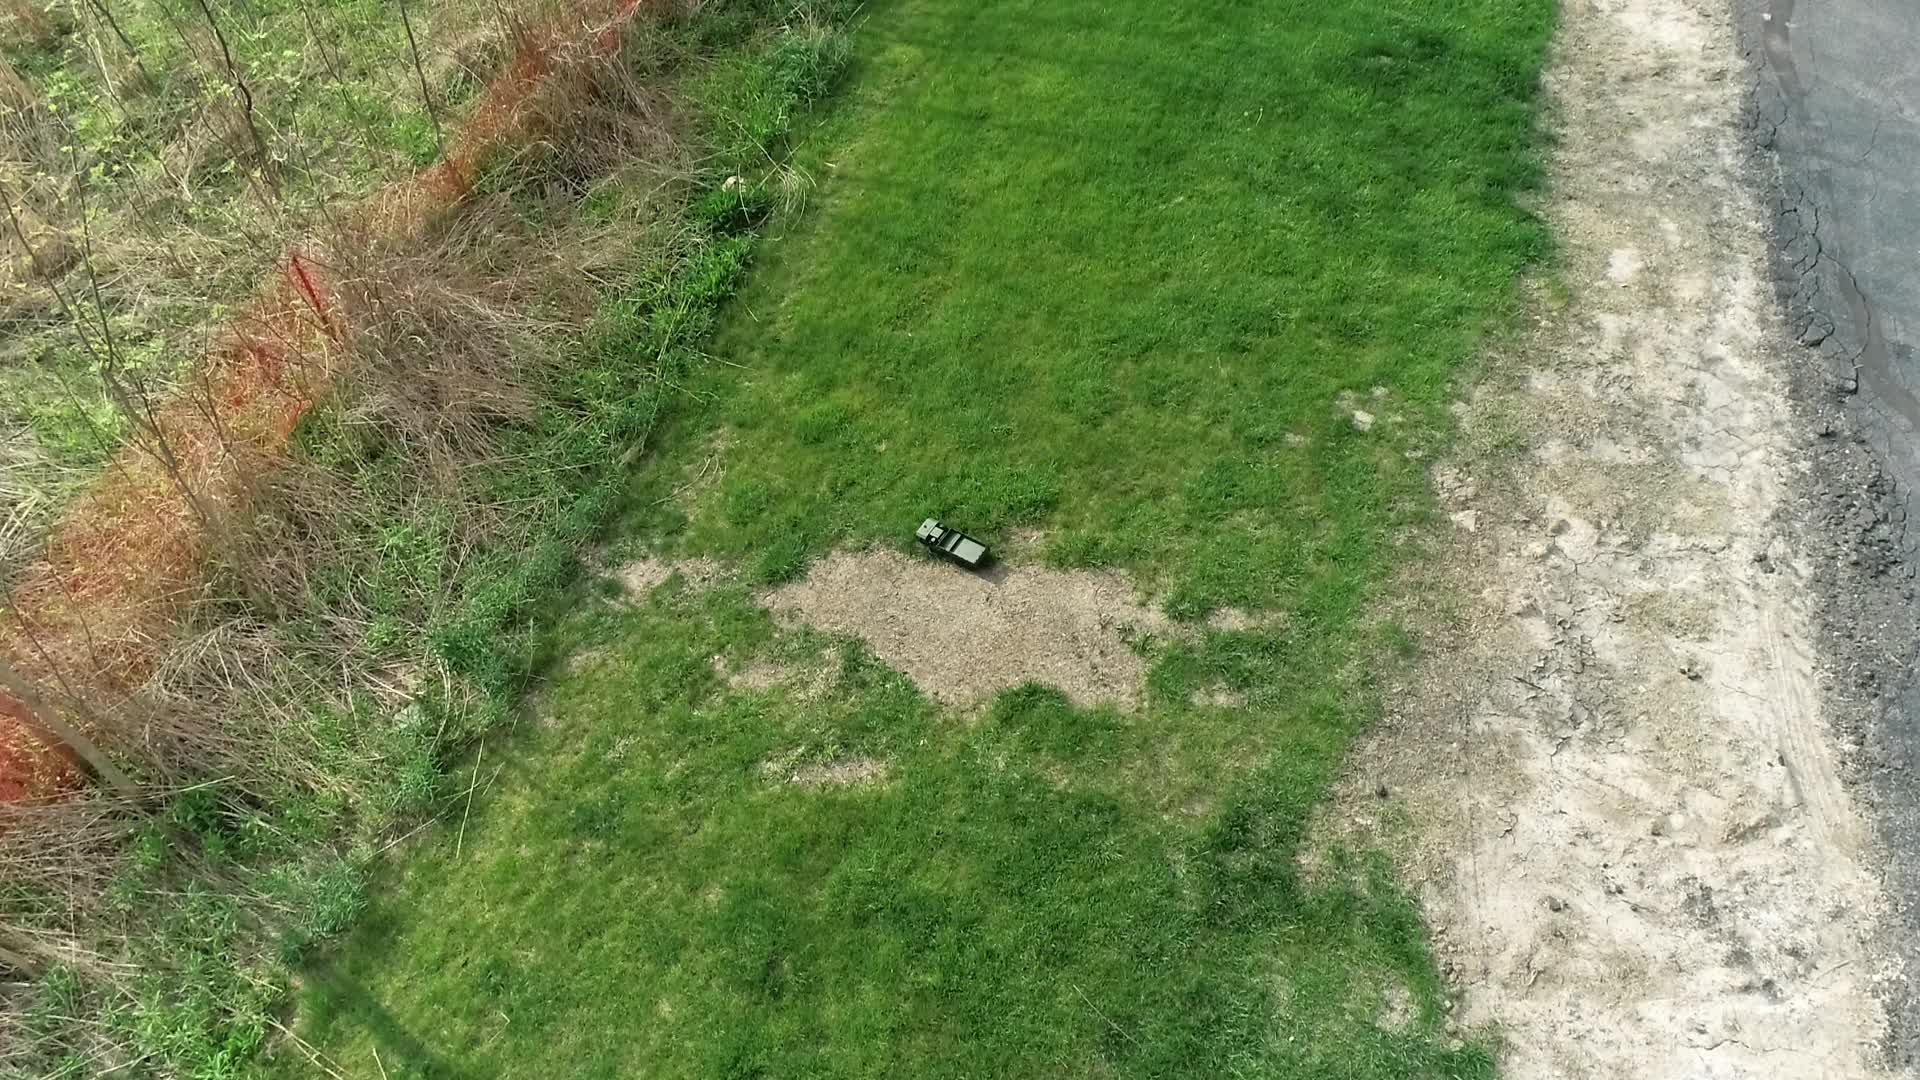transporter9: (913, 514, 993, 574)
